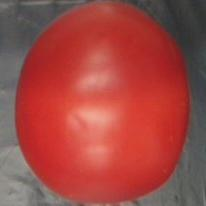unripe: (11, 1, 195, 206)
